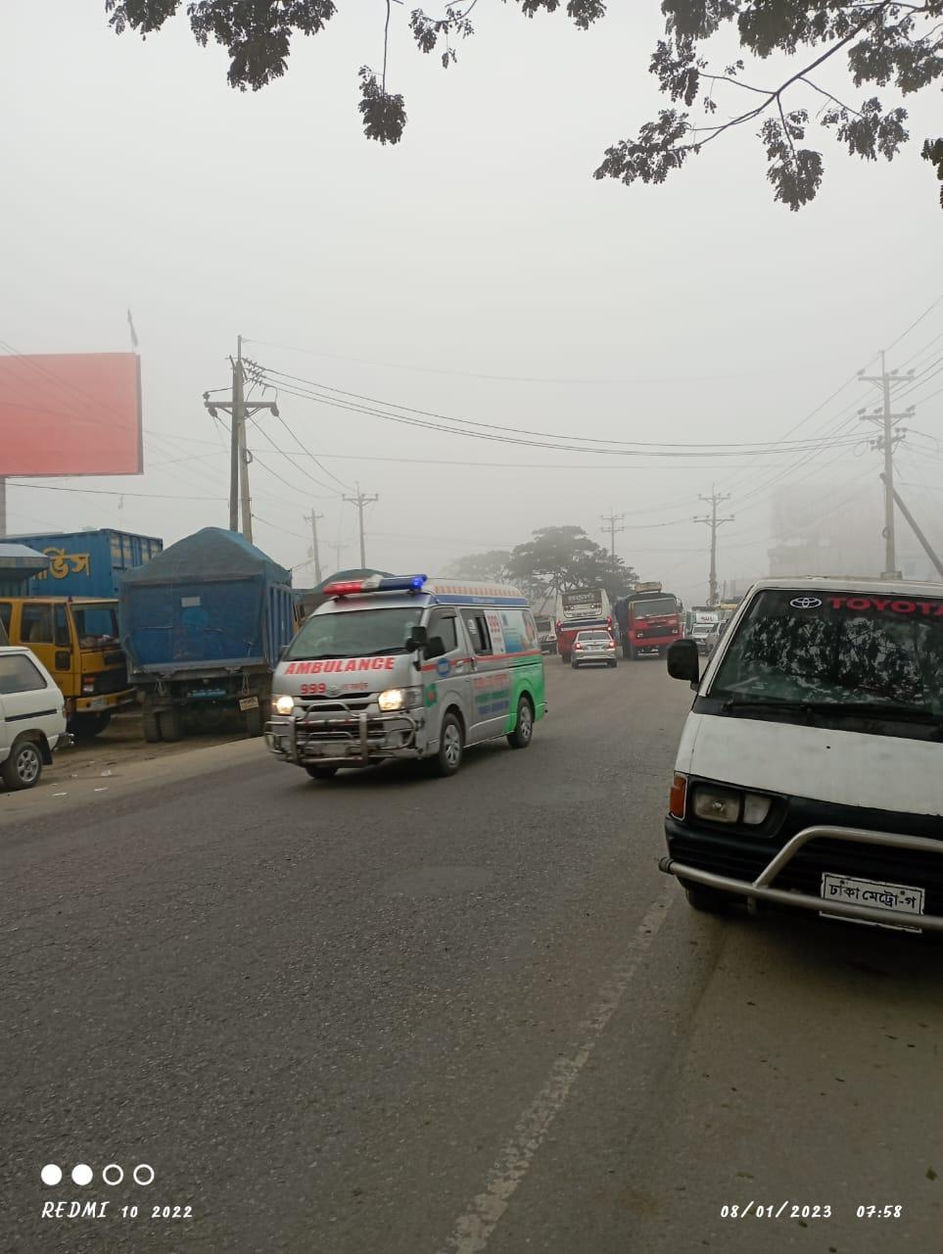Bus: (545, 580, 615, 655)
Car: (662, 579, 943, 959), (262, 573, 544, 765), (2, 636, 75, 793), (570, 614, 623, 678)
Truck: (118, 529, 276, 738), (616, 585, 694, 665)
